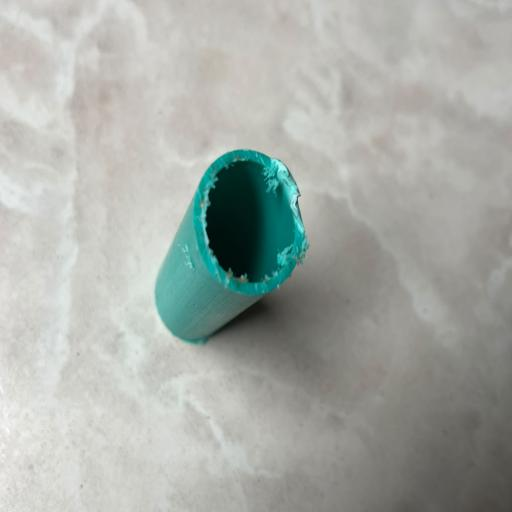PVC: (134, 125, 368, 412)
